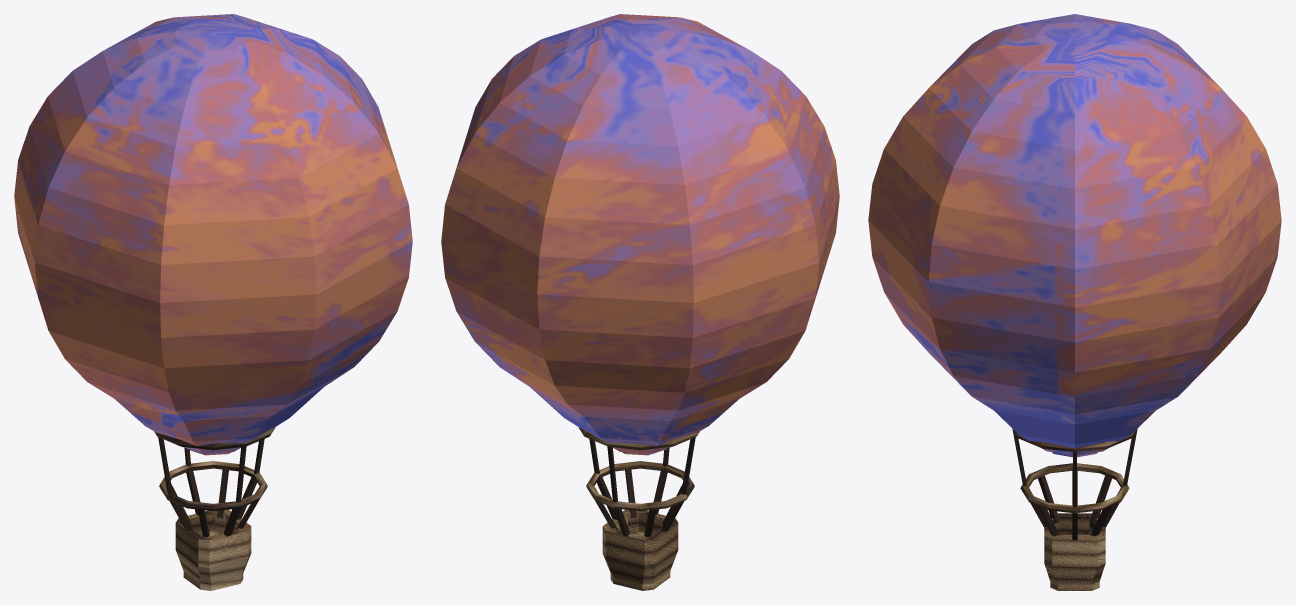
File: hot-air-balloon_2.fbx
The picture shows the model from 3 angles, left to right: view 1: azimuth 30°, elevation 25°; view 2: azimuth 150°, elevation 25°; view 3: azimuth 270°, elevation 25°; orthographic projection.
Visible parts, largest first — view 1: Torus.001; view 2: Torus.001; view 3: Torus.001.
Boxes of the visible parts, x1,y1,x2,y2 form: Torus.001: (14,14,412,590); Torus.001: (441,14,839,590); Torus.001: (868,14,1281,590).
Bounding box in the file's own units: 200 × 292 × 200.
